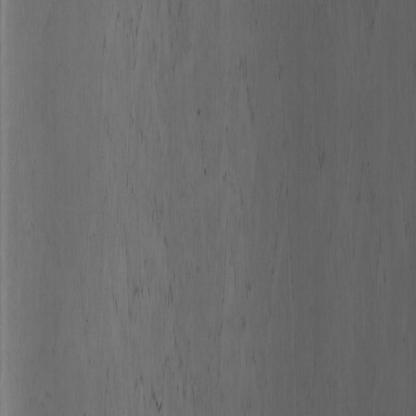silk_spot: (99, 0, 286, 397)
